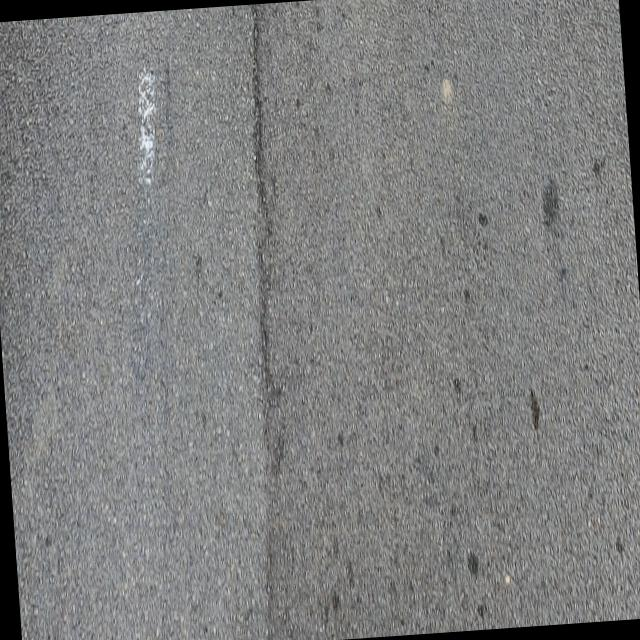Retak-Memanjang: (249, 4, 289, 477)
